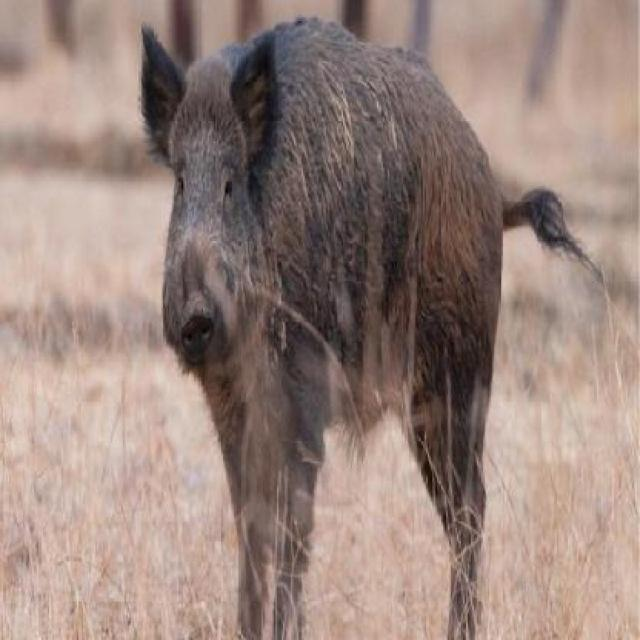wildboar: (138, 11, 605, 640)
